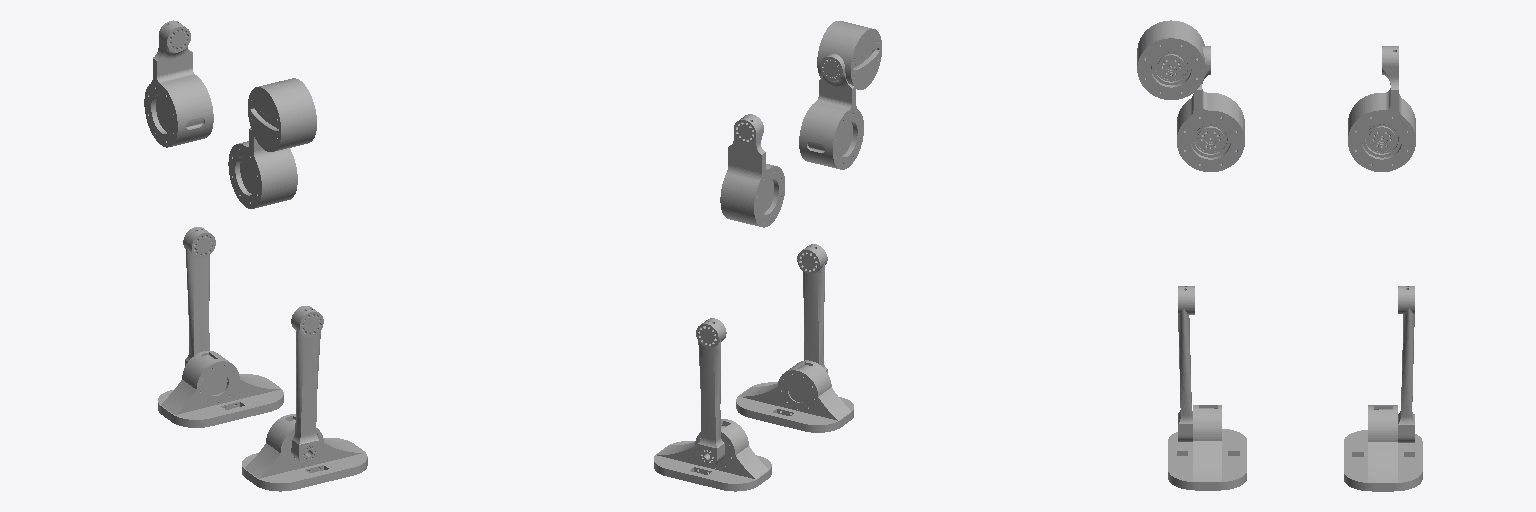
robot.urdf — bebopv2:
<?xml version="1.0" ?>
<!-- =================================================================================== -->
<!-- |    This document was autogenerated by xacro from /home/ahagi/master_ros2_ws/src/bebopv2_description/urdf/bebopv2.xacro | -->
<!-- |    EDITING THIS FILE BY HAND IS NOT RECOMMENDED                                 | -->
<!-- =================================================================================== -->
<robot name="bebopv2">
  <material name="silver">
    <color rgba="0.700 0.700 0.700 1.000"/>
  </material>
  <gazebo reference="base_link">
    <material>Gazebo/Silver</material>
    <mu1>0.2</mu1>
    <mu2>0.2</mu2>
    <self_collide>true</self_collide>
    <gravity>true</gravity>
  </gazebo>
  <gazebo reference="knee_flexion_left_1">
    <material>Gazebo/Silver</material>
    <mu1>0.2</mu1>
    <mu2>0.2</mu2>
    <self_collide>true</self_collide>
  </gazebo>
  <gazebo reference="knee_flexion_right_1">
    <material>Gazebo/Silver</material>
    <mu1>0.2</mu1>
    <mu2>0.2</mu2>
    <self_collide>true</self_collide>
  </gazebo>
  <gazebo reference="foot_left_1">
    <material>Gazebo/Silver</material>
    <mu1>0.2</mu1>
    <mu2>0.2</mu2>
    <self_collide>true</self_collide>
  </gazebo>
  <gazebo reference="foot_right_1">
    <material>Gazebo/Silver</material>
    <mu1>0.2</mu1>
    <mu2>0.2</mu2>
    <self_collide>true</self_collide>
  </gazebo>
  <gazebo reference="hip_flexion_right_1">
    <material>Gazebo/Silver</material>
    <mu1>0.2</mu1>
    <mu2>0.2</mu2>
    <self_collide>true</self_collide>
  </gazebo>
  <gazebo reference="hip_flexion_left_1">
    <material>Gazebo/Silver</material>
    <mu1>0.2</mu1>
    <mu2>0.2</mu2>
    <self_collide>true</self_collide>
  </gazebo>
  <gazebo reference="hip_abduction_right_1">
    <material>Gazebo/Silver</material>
    <mu1>0.2</mu1>
    <mu2>0.2</mu2>
    <self_collide>true</self_collide>
  </gazebo>
  <gazebo reference="hip_abduction_left_1">
    <material>Gazebo/Silver</material>
    <mu1>0.2</mu1>
    <mu2>0.2</mu2>
    <self_collide>true</self_collide>
  </gazebo>
  <link name="base_link">
    <inertial>
      <origin rpy="0 0 0" xyz="-8.495725208879161e-05 0.0020602048068726576 0.06042048201634313"/>
      <mass value="6.6999999999999975"/>
      <inertia ixx="0.086457" ixy="0.000129" ixz="-0.001646" iyy="0.04898" iyz="-0.000847" izz="0.05372"/>
    </inertial>
    <visual>
      <origin rpy="0 0 0" xyz="0 0 0"/>
      <geometry>
        <mesh filename="package://bebopv2_description/meshes/base_link.stl" scale="0.001 0.001 0.001"/>
      </geometry>
      <material name="silver"/>
    </visual>
    <collision>
      <origin rpy="0 0 0" xyz="0 0 0"/>
      <geometry>
        <mesh filename="package://bebopv2_description/meshes/base_link.stl" scale="0.001 0.001 0.001"/>
      </geometry>
    </collision>
  </link>
  <link name="knee_flexion_left_1">
    <inertial>
      <origin rpy="0 0 0" xyz="3.846626425058064e-05 0.01659814266918333 -0.12318431182483869"/>
      <mass value="0.11370113593752607"/>
      <inertia ixx="0.000949" ixy="-0.0" ixz="-0.0" iyy="0.000959" iyz="-6e-06" izz="2.1e-05"/>
    </inertial>
    <visual>
      <origin rpy="0 0 0" xyz="-0.063261 -0.1782 0.420902"/>
      <geometry>
        <mesh filename="package://bebopv2_description/meshes/knee_flexion_left_1.stl" scale="0.001 0.001 0.001"/>
      </geometry>
      <material name="silver"/>
    </visual>
    <collision>
      <origin rpy="0 0 0" xyz="-0.063261 -0.1782 0.420902"/>
      <geometry>
        <mesh filename="package://bebopv2_description/meshes/knee_flexion_left_1.stl" scale="0.001 0.001 0.001"/>
      </geometry>
    </collision>
  </link>
  <link name="knee_flexion_right_1">
    <inertial>
      <origin rpy="0 0 0" xyz="-0.0021891088643420653 -0.01659808446088712 -0.12316566275884544"/>
      <mass value="0.11369998148988655"/>
      <inertia ixx="0.000949" ixy="0.0" ixz="-1.6e-05" iyy="0.000959" iyz="6e-06" izz="2.2e-05"/>
    </inertial>
    <visual>
      <origin rpy="0 0 0" xyz="-0.063523 0.178 0.421034"/>
      <geometry>
        <mesh filename="package://bebopv2_description/meshes/knee_flexion_right_1.stl" scale="0.001 0.001 0.001"/>
      </geometry>
      <material name="silver"/>
    </visual>
    <collision>
      <origin rpy="0 0 0" xyz="-0.063523 0.178 0.421034"/>
      <geometry>
        <mesh filename="package://bebopv2_description/meshes/knee_flexion_right_1.stl" scale="0.001 0.001 0.001"/>
      </geometry>
    </collision>
  </link>
  <link name="foot_left_1">
    <inertial>
      <origin rpy="0 0 0" xyz="0.022192420913881364 -0.016069975495289518 -0.04082137886907555"/>
      <mass value="0.6420025158679283"/>
      <inertia ixx="0.000925" ixy="-6.5e-05" ixz="0.000184" iyy="0.002283" iyz="0.000124" izz="0.002103"/>
    </inertial>
    <visual>
      <origin rpy="0 0 0" xyz="-0.063265 -0.1782 0.674402"/>
      <geometry>
        <mesh filename="package://bebopv2_description/meshes/foot_left_1.stl" scale="0.001 0.001 0.001"/>
      </geometry>
      <material name="silver"/>
    </visual>
    <collision>
      <origin rpy="0 0 0" xyz="-0.063265 -0.1782 0.674402"/>
      <geometry>
        <mesh filename="package://bebopv2_description/meshes/foot_left_1.stl" scale="0.001 0.001 0.001"/>
      </geometry>
    </collision>
  </link>
  <link name="foot_right_1">
    <inertial>
      <origin rpy="0 0 0" xyz="0.022189348659933113 0.016069982160241636 -0.04081688957395602"/>
      <mass value="0.6420010099946694"/>
      <inertia ixx="0.000925" ixy="6.5e-05" ixz="0.000184" iyy="0.002283" iyz="-0.000124" izz="0.002103"/>
    </inertial>
    <visual>
      <origin rpy="0 0 0" xyz="-0.059094 0.178 0.674495"/>
      <geometry>
        <mesh filename="package://bebopv2_description/meshes/foot_right_1.stl" scale="0.001 0.001 0.001"/>
      </geometry>
      <material name="silver"/>
    </visual>
    <collision>
      <origin rpy="0 0 0" xyz="-0.059094 0.178 0.674495"/>
      <geometry>
        <mesh filename="package://bebopv2_description/meshes/foot_right_1.stl" scale="0.001 0.001 0.001"/>
      </geometry>
    </collision>
  </link>
  <link name="hip_flexion_right_1">
    <inertial>
      <origin rpy="0 0 0" xyz="0.0013636431736272592 -0.005138644819907778 -0.11306629060566109"/>
      <mass value="1.1494365230098111"/>
      <inertia ixx="0.004841" ixy="-8e-06" ixz="4e-05" iyy="0.004393" iyz="0.000394" izz="0.00166"/>
    </inertial>
    <visual>
      <origin rpy="0 0 0" xyz="0.003527 0.1503 -0.013"/>
      <geometry>
        <mesh filename="package://bebopv2_description/meshes/hip_flexion_right_1.stl" scale="0.001 0.001 0.001"/>
      </geometry>
      <material name="silver"/>
    </visual>
    <collision>
      <origin rpy="0 0 0" xyz="0.003527 0.1503 -0.013"/>
      <geometry>
        <mesh filename="package://bebopv2_description/meshes/hip_flexion_right_1.stl" scale="0.001 0.001 0.001"/>
      </geometry>
    </collision>
  </link>
  <link name="hip_flexion_left_1">
    <inertial>
      <origin rpy="0 0 0" xyz="0.0013616527842525484 0.005166034468434444 -0.11306634650440041"/>
      <mass value="1.1494341700004236"/>
      <inertia ixx="0.004841" ixy="8e-06" ixz="4e-05" iyy="0.004393" iyz="-0.000393" izz="0.00166"/>
    </inertial>
    <visual>
      <origin rpy="0 0 0" xyz="0.003789 -0.1505 -0.013132"/>
      <geometry>
        <mesh filename="package://bebopv2_description/meshes/hip_flexion_left_1.stl" scale="0.001 0.001 0.001"/>
      </geometry>
      <material name="silver"/>
    </visual>
    <collision>
      <origin rpy="0 0 0" xyz="0.003789 -0.1505 -0.013132"/>
      <geometry>
        <mesh filename="package://bebopv2_description/meshes/hip_flexion_left_1.stl" scale="0.001 0.001 0.001"/>
      </geometry>
    </collision>
  </link>
  <link name="hip_abduction_right_1">
    <inertial>
      <origin rpy="0 0 0" xyz="0.03210238385368529 -0.00031798171381045015 -0.1813015006925155"/>
      <mass value="1.741992832749943"/>
      <inertia ixx="0.023688" ixy="4e-06" ixz="0.001494" iyy="0.024244" iyz="-0.000107" izz="0.001709"/>
    </inertial>
    <visual>
      <origin rpy="0 0 0" xyz="-0.026023 0.1503 0.127"/>
      <geometry>
        <mesh filename="package://bebopv2_description/meshes/hip_abduction_right_1.stl" scale="0.001 0.001 0.001"/>
      </geometry>
      <material name="silver"/>
    </visual>
    <collision>
      <origin rpy="0 0 0" xyz="-0.026023 0.1503 0.127"/>
      <geometry>
        <mesh filename="package://bebopv2_description/meshes/hip_abduction_right_1.stl" scale="0.001 0.001 0.001"/>
      </geometry>
    </collision>
  </link>
  <link name="hip_abduction_left_1">
    <inertial>
      <origin rpy="0 0 0" xyz="0.03177093685294447 0.00031798236885224873 -0.18130159101260016"/>
      <mass value="1.741996667034525"/>
      <inertia ixx="0.023689" ixy="-2e-06" ixz="0.00145" iyy="0.024237" iyz="0.000107" izz="0.001703"/>
    </inertial>
    <visual>
      <origin rpy="0 0 0" xyz="-0.025761 -0.1505 0.126868"/>
      <geometry>
        <mesh filename="package://bebopv2_description/meshes/hip_abduction_left_1.stl" scale="0.001 0.001 0.001"/>
      </geometry>
      <material name="silver"/>
    </visual>
    <collision>
      <origin rpy="0 0 0" xyz="-0.025761 -0.1505 0.126868"/>
      <geometry>
        <mesh filename="package://bebopv2_description/meshes/hip_abduction_left_1.stl" scale="0.001 0.001 0.001"/>
      </geometry>
    </collision>
  </link>
  <joint name="knee_flexion_left_joint" type="revolute">
    <origin rpy="0 0 0" xyz="0.0375 0.0277 -0.294034"/>
    <parent link="hip_abduction_left_1"/>
    <child link="knee_flexion_left_1"/>
    <axis xyz="0.0 1.0 0.0"/>
    <limit effort="100" lower="-0.785398" upper="1.570796" velocity="100"/>
  </joint>
  <joint name="knee_flexion_right_joint" type="revolute">
    <origin rpy="0 0 0" xyz="0.0375 -0.0277 -0.294034"/>
    <parent link="hip_abduction_right_1"/>
    <child link="knee_flexion_right_1"/>
    <axis xyz="-0.0 -1.0 -0.0"/>
    <limit effort="100" lower="-1.570796" upper="0.785398" velocity="100"/>
  </joint>
  <joint name="foot_left_joint" type="revolute">
    <origin rpy="0 0 0" xyz="4e-06 0.0 -0.2535"/>
    <parent link="knee_flexion_left_1"/>
    <child link="foot_left_1"/>
    <axis xyz="-0.0 1.0 0.0"/>
    <limit effort="100" lower="-0.523599" upper="0.523599" velocity="100"/>
  </joint>
  <joint name="foot_right_joint" type="revolute">
    <origin rpy="0 0 0" xyz="-0.004429 0.0 -0.253461"/>
    <parent link="knee_flexion_right_1"/>
    <child link="foot_right_1"/>
    <axis xyz="-0.0 -1.0 -0.0"/>
    <limit effort="100" lower="-0.523599" upper="0.523599" velocity="100"/>
  </joint>
  <joint name="hip_flexion_right_joint" type="revolute">
    <origin rpy="0 0 0" xyz="-0.003527 -0.1503 0.013"/>
    <parent link="base_link"/>
    <child link="hip_flexion_right_1"/>
    <axis xyz="-0.0 -1.0 -0.0"/>
    <limit effort="100" lower="-0.785398" upper="0.785398" velocity="100"/>
  </joint>
  <joint name="hip_flexion_left_joint" type="revolute">
    <origin rpy="0 0 0" xyz="-0.003789 0.1505 0.013132"/>
    <parent link="base_link"/>
    <child link="hip_flexion_left_1"/>
    <axis xyz="0.0 1.0 -0.0"/>
    <limit effort="100" lower="-0.785398" upper="0.785398" velocity="100"/>
  </joint>
  <joint name="hip_abduction_right_joint" type="revolute">
    <origin rpy="0 0 0" xyz="0.02955 0.0 -0.14"/>
    <parent link="hip_flexion_right_1"/>
    <child link="hip_abduction_right_1"/>
    <axis xyz="1.0 0.0 0.0"/>
    <limit effort="100" lower="-0.349066" upper="0.174533" velocity="100"/>
  </joint>
  <joint name="hip_abduction_left_joint" type="revolute">
    <origin rpy="0 0 0" xyz="0.02955 0.0 -0.14"/>
    <parent link="hip_flexion_left_1"/>
    <child link="hip_abduction_left_1"/>
    <axis xyz="1.0 -0.0 0.0"/>
    <limit effort="100" lower="-0.174533" upper="0.349066" velocity="100"/>
  </joint>
</robot>

--- What the picture shows (computed from the rendered views, not written in the file) ---
The picture shows the robot from 3 angles, left to right: view 1: azimuth 30°, elevation 25°; view 2: azimuth 150°, elevation 25°; view 3: azimuth 270°, elevation 25°; orthographic projection.
Robot: bebopv2 — 9 links, 8 joints (8 revolute); root link base_link; default pose: every joint at zero.
Links seen in each view (by area): view 1: foot_left_1, hip_flexion_left_1, foot_right_1, hip_abduction_right_1, hip_flexion_right_1, knee_flexion_right_1, knee_flexion_left_1; view 2: foot_right_1, hip_flexion_left_1, hip_flexion_right_1, foot_left_1, hip_abduction_right_1, knee_flexion_left_1, knee_flexion_right_1; view 3: hip_flexion_left_1, foot_left_1, foot_right_1, hip_flexion_right_1, hip_abduction_right_1, knee_flexion_left_1, knee_flexion_right_1.
Boxes of the visible links, x1,y1,x2,y2 form: foot_left_1: (158,351,283,427); hip_flexion_left_1: (144,20,213,147); foot_right_1: (242,414,367,491); hip_abduction_right_1: (248,78,316,151); hip_flexion_right_1: (228,109,297,208); knee_flexion_right_1: (291,306,323,464); knee_flexion_left_1: (183,227,215,365); foot_right_1: (736,360,853,432); hip_flexion_left_1: (720,114,784,227); hip_flexion_right_1: (799,54,863,169); foot_left_1: (654,419,771,491); hip_abduction_right_1: (817,21,881,89); knee_flexion_left_1: (696,318,726,466); knee_flexion_right_1: (797,244,827,372); hip_flexion_left_1: (1348,46,1415,171); foot_left_1: (1344,405,1422,491); foot_right_1: (1168,405,1246,490); hip_flexion_right_1: (1177,51,1244,171); hip_abduction_right_1: (1137,20,1210,99); knee_flexion_left_1: (1398,286,1414,442); knee_flexion_right_1: (1178,286,1194,441).
Bounding box of the posed robot: 0.2364 × 0.5014 × 0.8032 m (x, y, z).
7 mesh visuals loaded from 9 distinct referenced files (7 binary STL); not drawn: 2 (reference not matched to a file when rendering).
